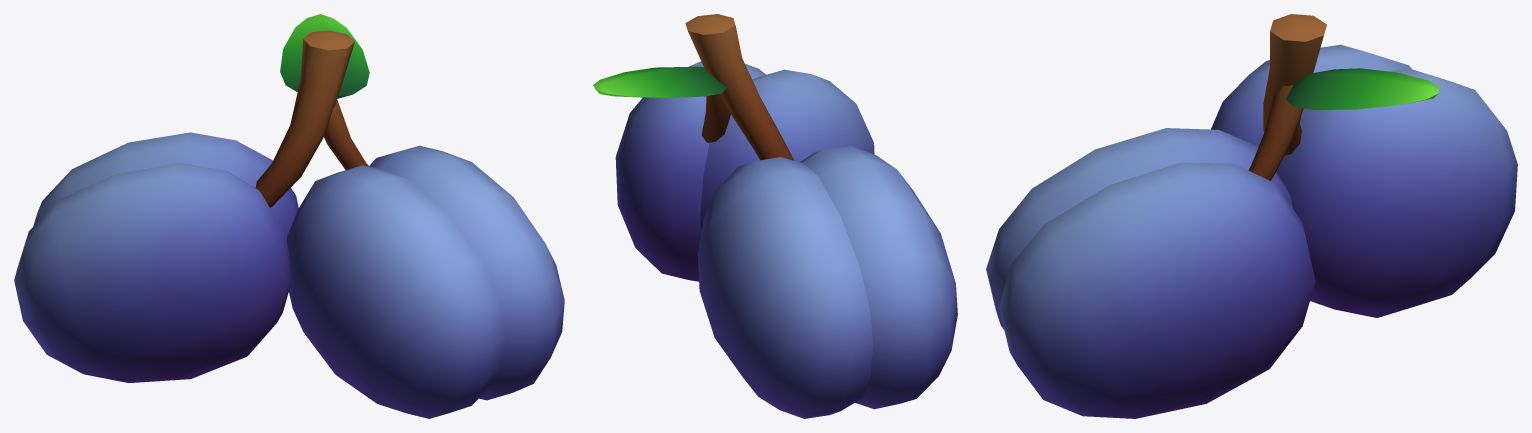
Rendered from Plum_01.glb.
3 views of the same model, side by side, from view 1: azimuth 30°, elevation 25°; view 2: azimuth 150°, elevation 25°; view 3: azimuth 270°, elevation 25° (orthographic). The views are drawn at different scales.
Visible parts, largest first — view 1: Plum_01; view 2: Plum_01; view 3: Plum_01.
Part boxes in pixels (x1,y1,x2,y2): Plum_01: (14,14,564,418); Plum_01: (593,14,957,418); Plum_01: (986,14,1517,418).
Size of the model in its own units: 0.3289 by 0.2448 by 0.3304.
1 material, 1 textured.
